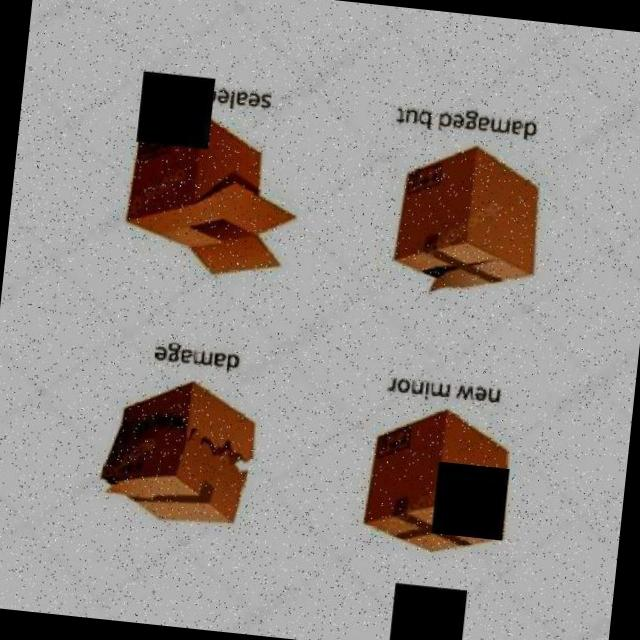box: (91, 98, 308, 289), (352, 123, 554, 312), (88, 364, 269, 542), (342, 396, 525, 570)
